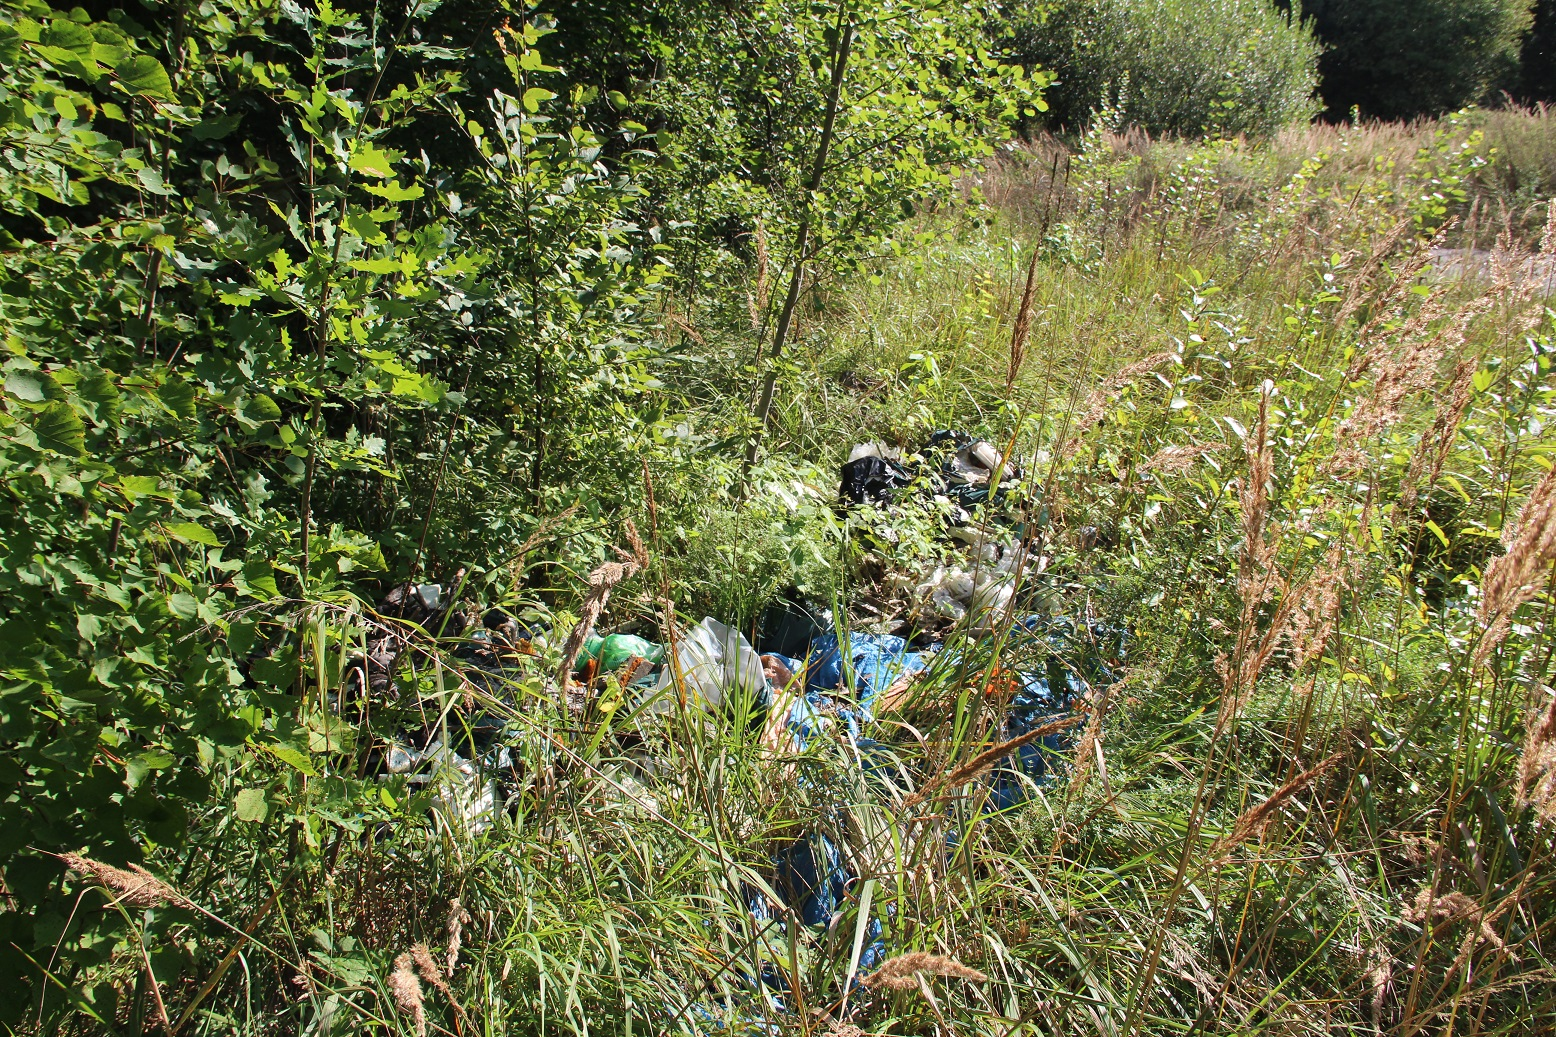trash: (410, 394, 1126, 920)
